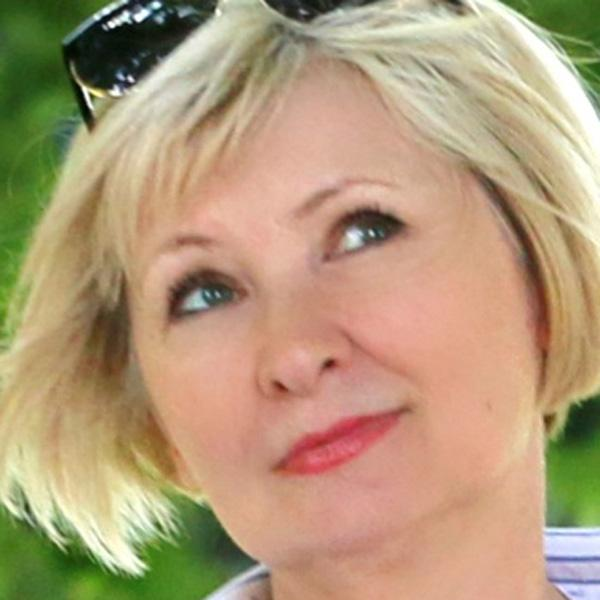Eyes: (316, 196, 412, 269), (154, 263, 254, 332)
